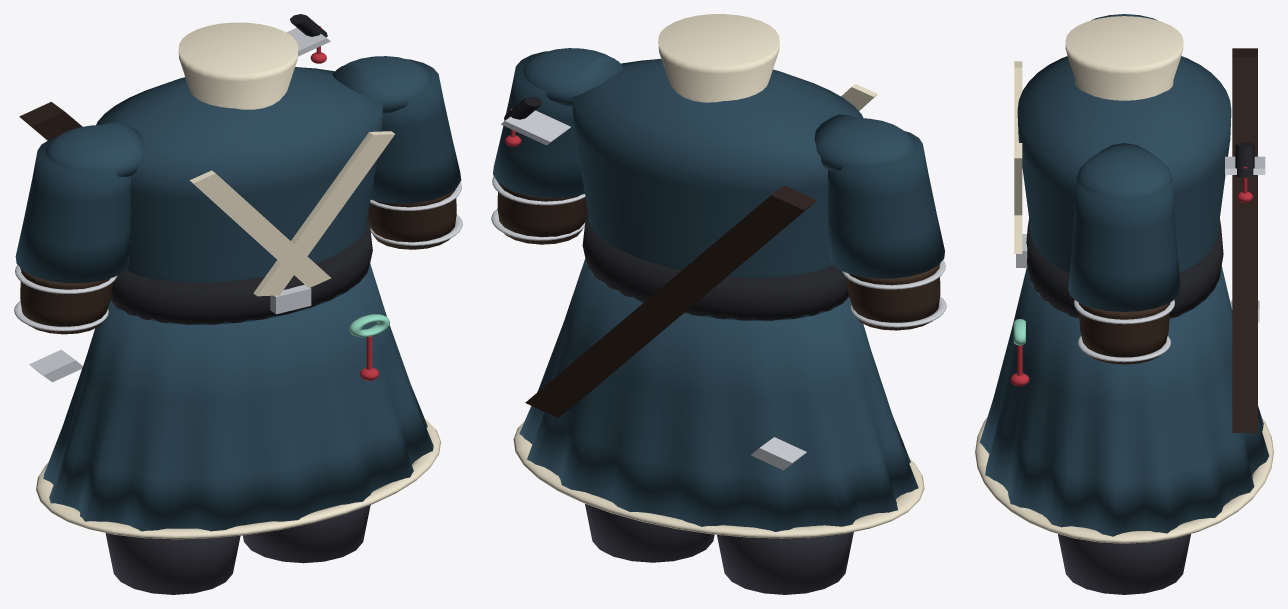
File: suit_start_m.glb
3 views of the same model, side by side, from view 1: azimuth 30°, elevation 25°; view 2: azimuth 150°, elevation 25°; view 3: azimuth 270°, elevation 25° (orthographic). The views are drawn at different scales.
Size of the model in its own units: 0.6898 by 0.7645 by 0.4162.
